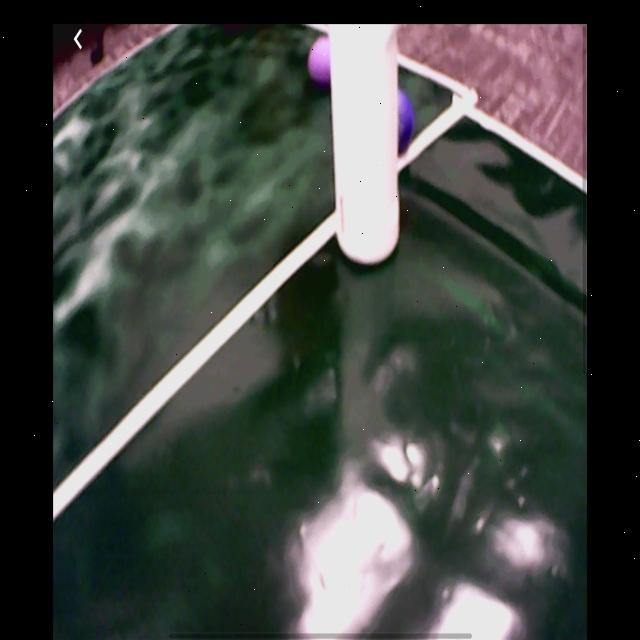ball: (308, 36, 334, 86), (398, 92, 415, 159)
